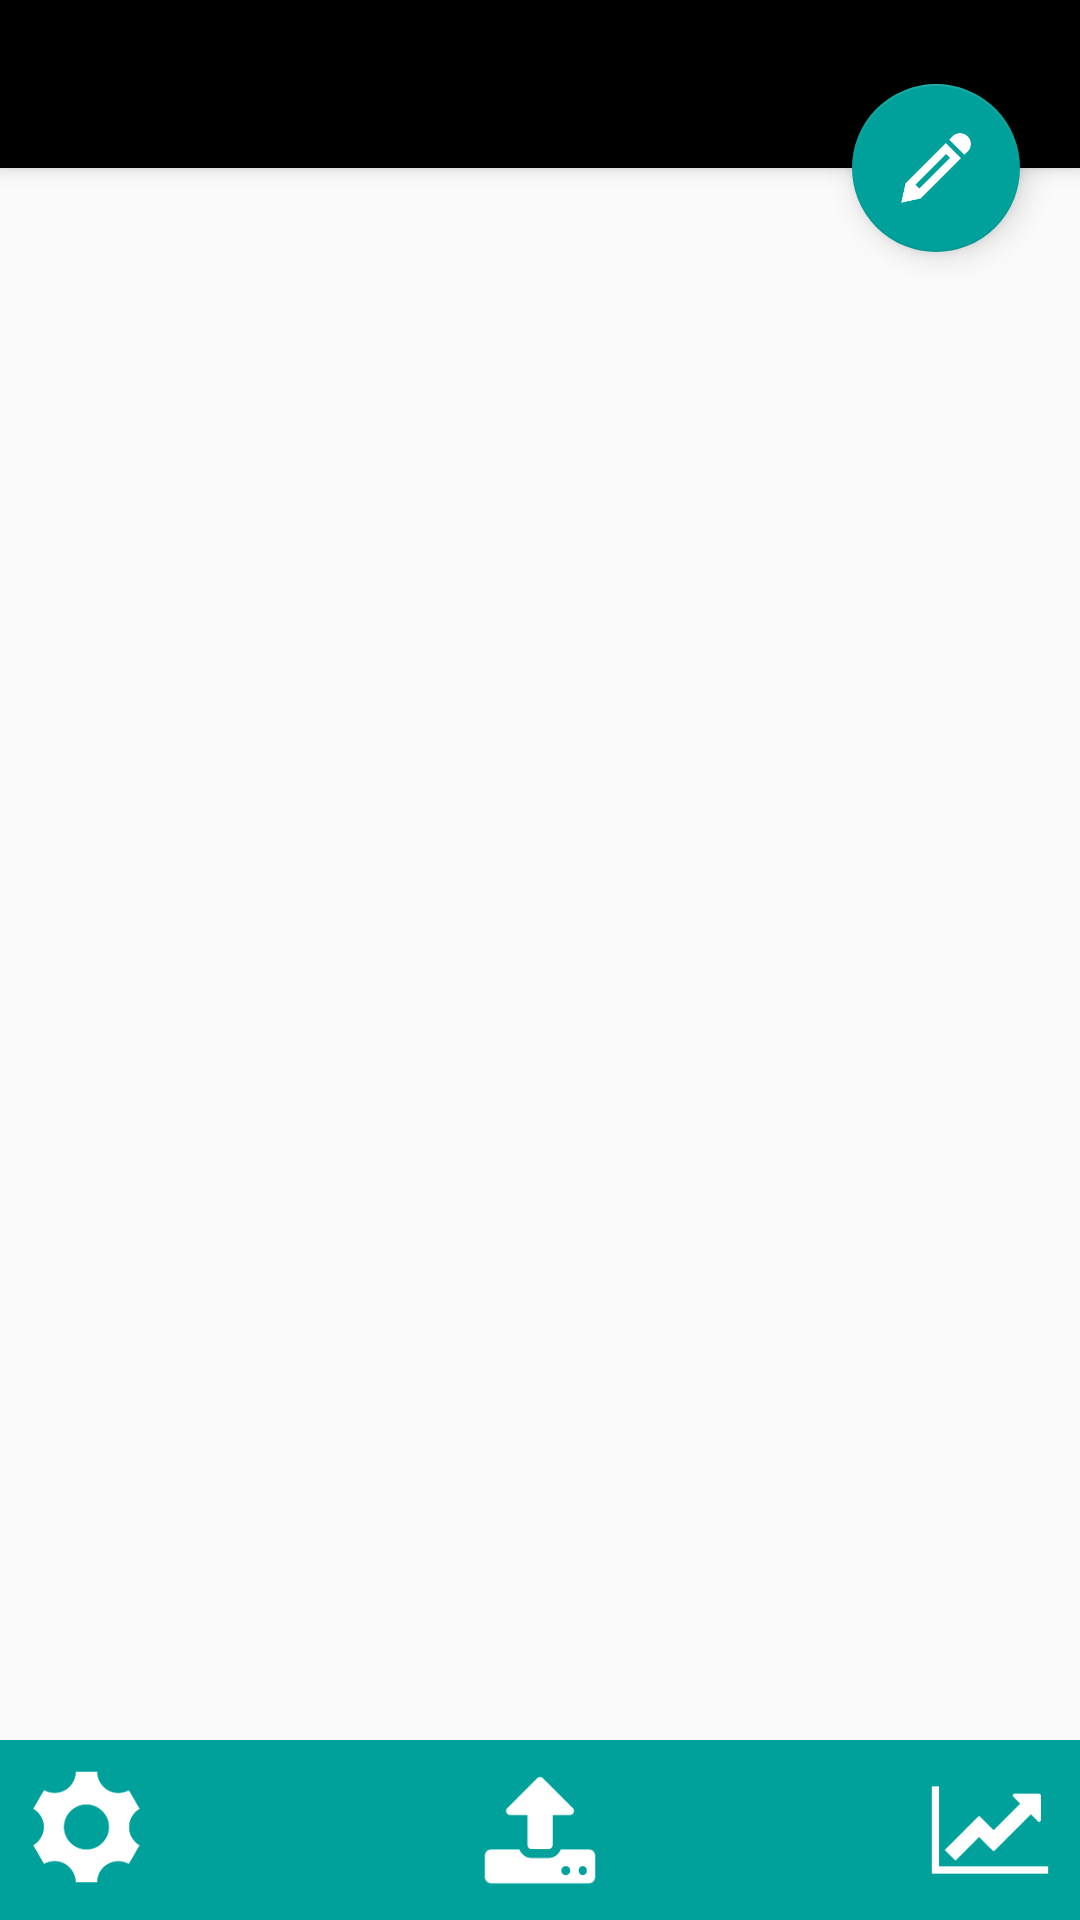

Screen size 1080×1920. Icon name, then its center in pixels as (x,y):
im cog: (86,1827)
im pencil: (936,168)
line chart: (990,1830)
upload: (540,1830)
